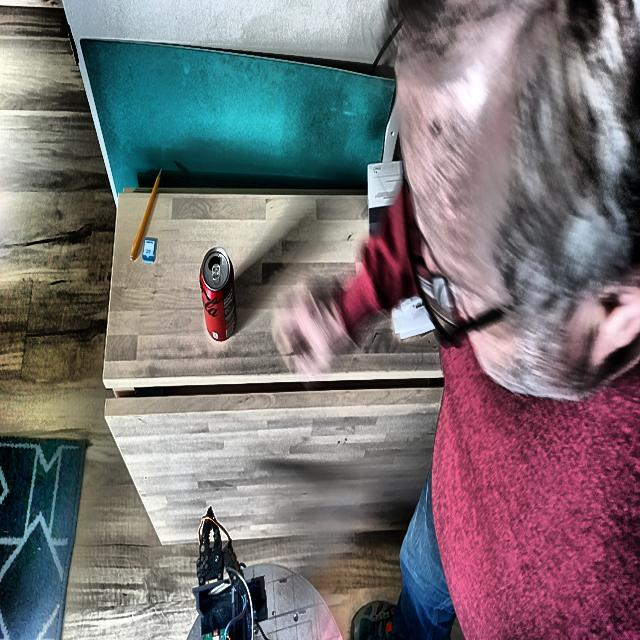Can: (200, 249, 236, 341)
